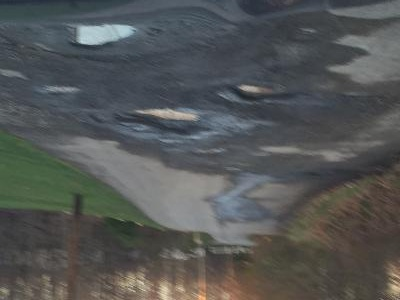pothole: (119, 107, 211, 137), (67, 20, 141, 51), (229, 81, 292, 103), (235, 0, 319, 16), (41, 86, 81, 98)
